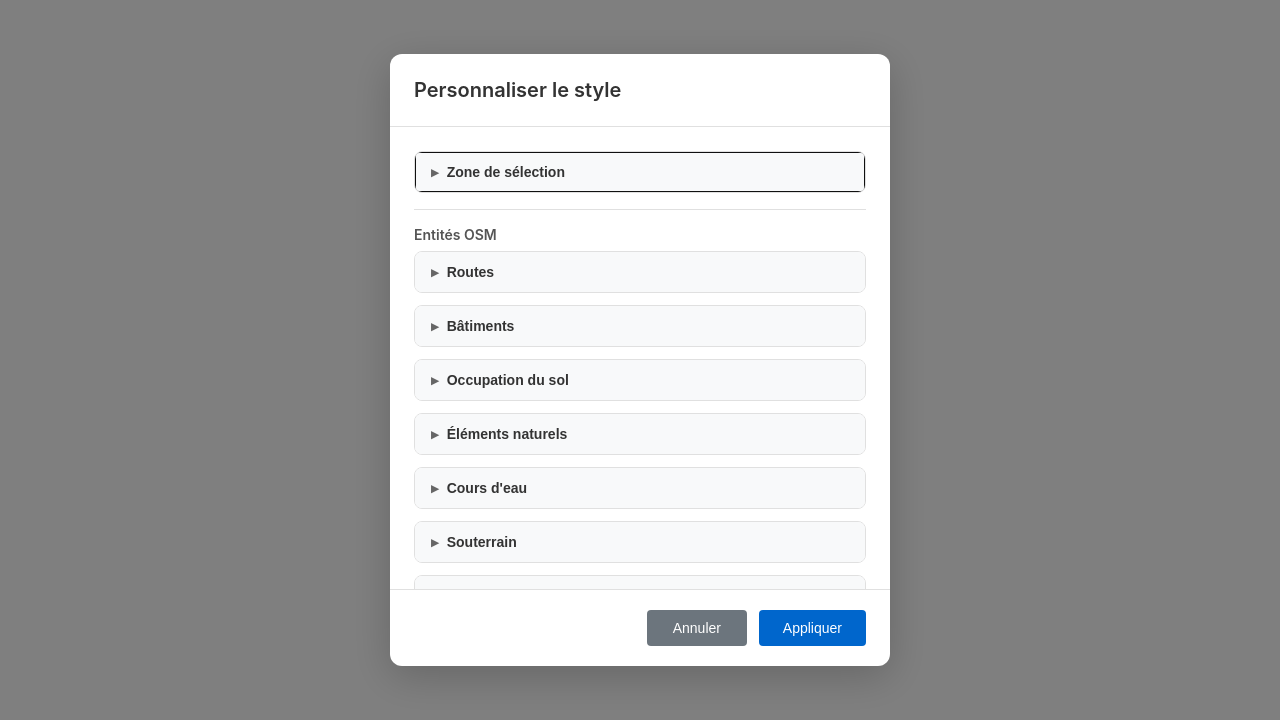
Test: StyleModal road casing color › shows the derived casing color when the road style has none
Click the button "▶ Routes". click: click(470, 272)
box: [415,252,865,292]
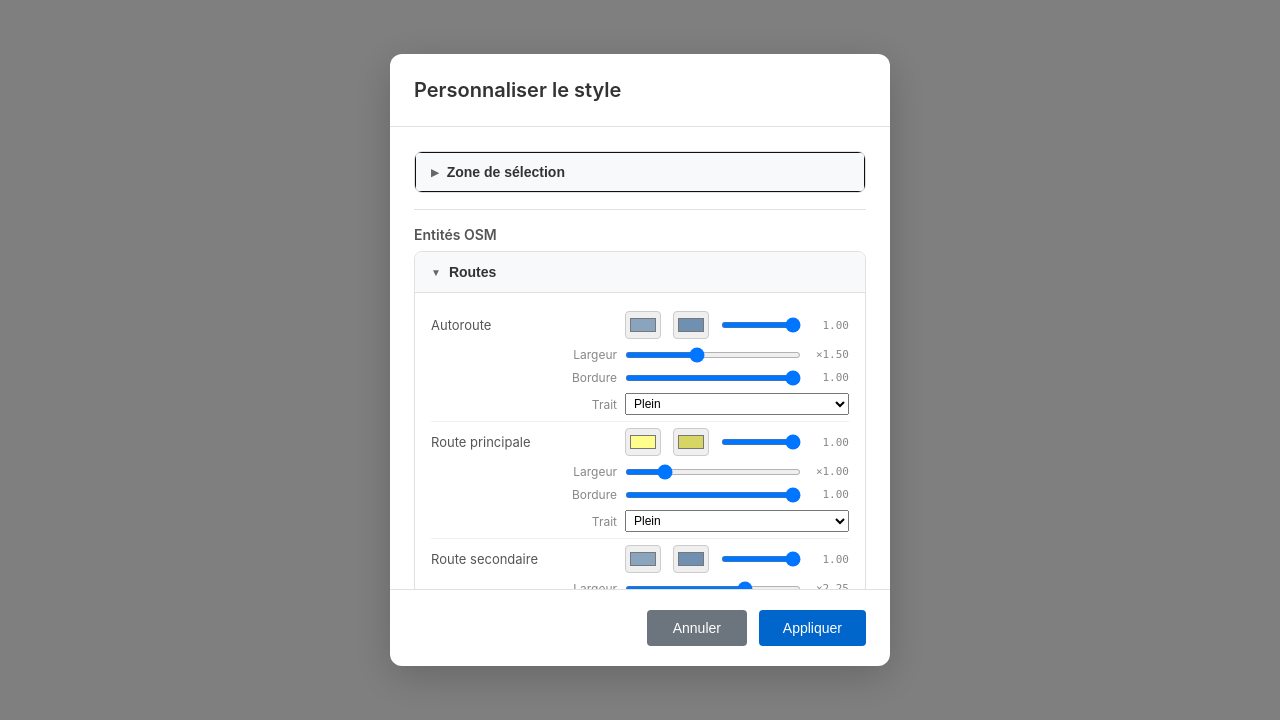
Result: the colour field titled "Couleur de bordure" next to "Route principale" holds "#d7d563" at [673,428,709,456]
